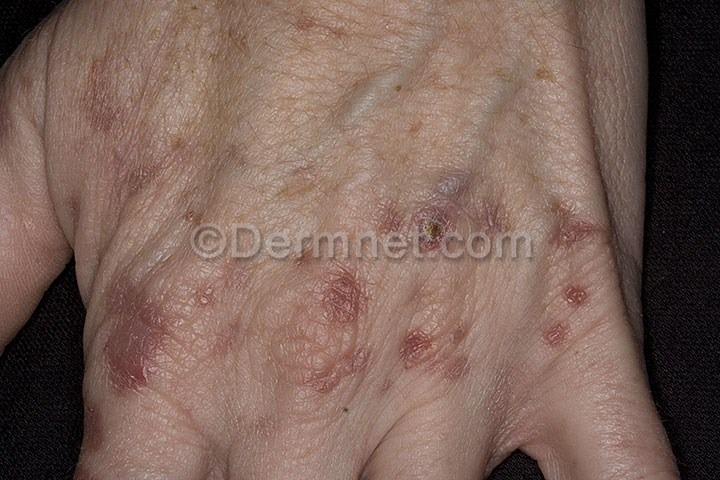Melasma: (86, 262, 624, 463), (72, 19, 200, 227), (366, 168, 612, 235)
